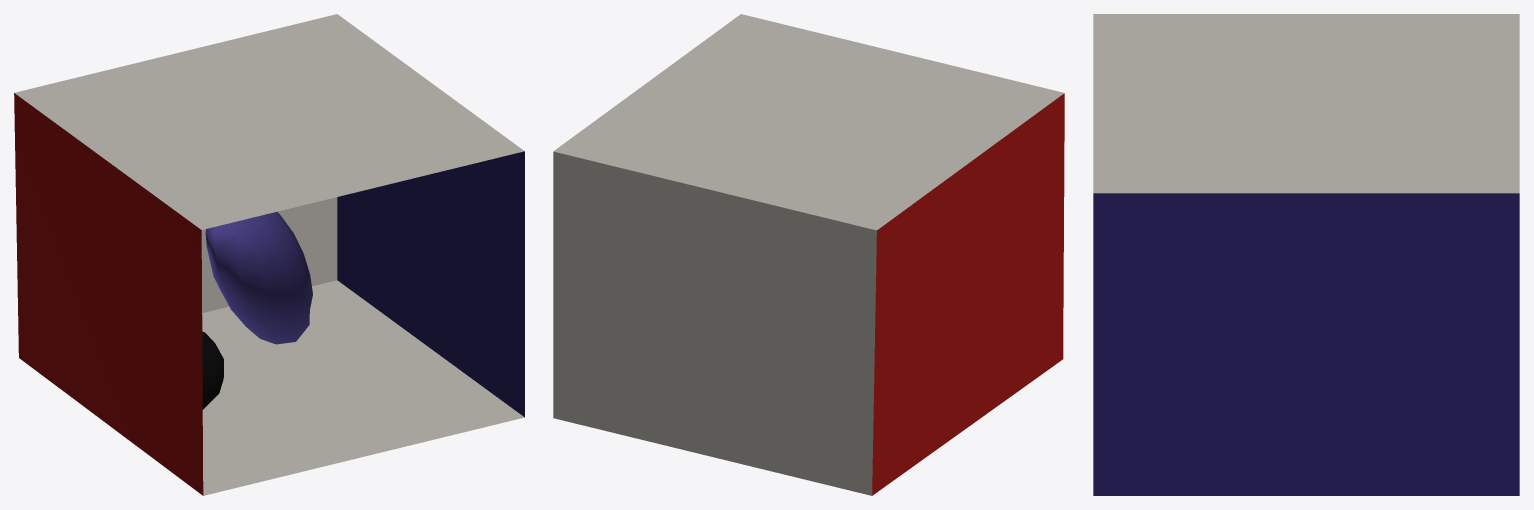
The model's file is CornellBox-Ellipsoid-282.obj.
The picture shows the model from 3 angles, left to right: view 1: azimuth 30°, elevation 25°; view 2: azimuth 150°, elevation 25°; view 3: azimuth 270°, elevation 25°; orthographic projection. The views are drawn at different scales.
Parts seen in each view (by area): view 1: ceiling, leftWall, floor, rightWall, leftSphere, backWall, rightSphere; view 2: backWall, ceiling, leftWall; view 3: rightWall, ceiling.
Boxes of the visible parts, x1,y1,x2,y2 form: ceiling: (14, 14, 524, 229); leftWall: (14, 93, 203, 495); floor: (202, 280, 524, 495); rightWall: (337, 151, 524, 417); leftSphere: (205, 212, 312, 344); backWall: (201, 197, 337, 312); rightSphere: (202, 331, 223, 409); backWall: (553, 151, 876, 495); ceiling: (553, 14, 1064, 230); leftWall: (872, 93, 1064, 495); rightWall: (1093, 193, 1519, 495); ceiling: (1093, 14, 1519, 193).
Bounding box in the file's own units: 2.02 × 1.59 × 2.03.
